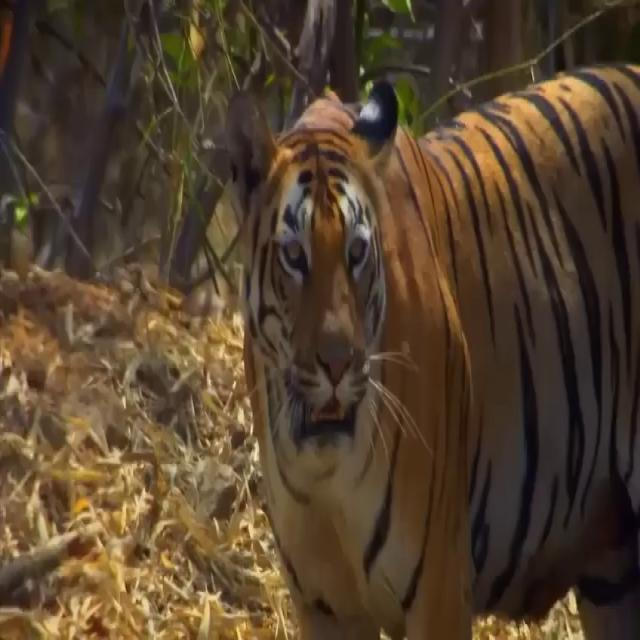tiger: (222, 58, 640, 640)
